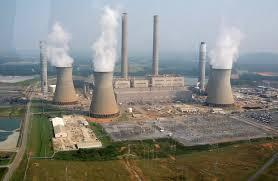smoke: (206, 28, 240, 69), (92, 19, 115, 71), (53, 27, 70, 71)
